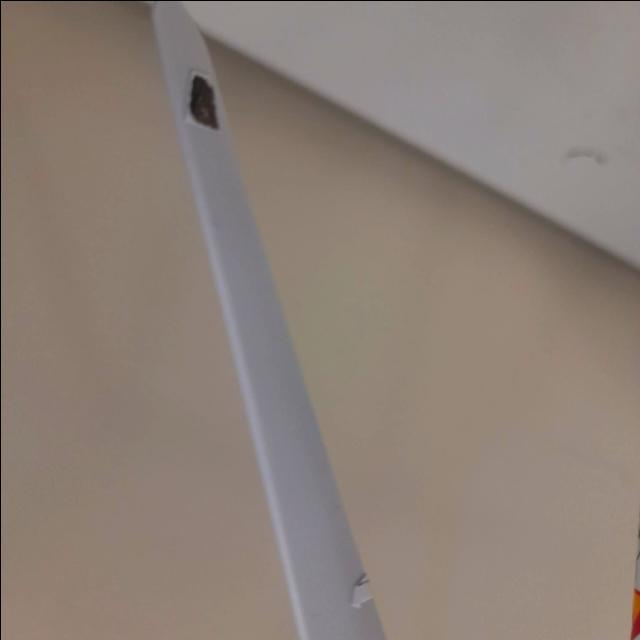dano: (180, 72, 220, 134), (356, 568, 372, 592)
